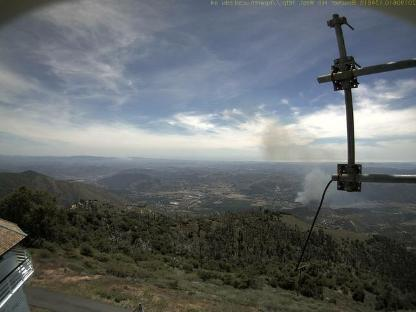smoke: (260, 114, 342, 206)
